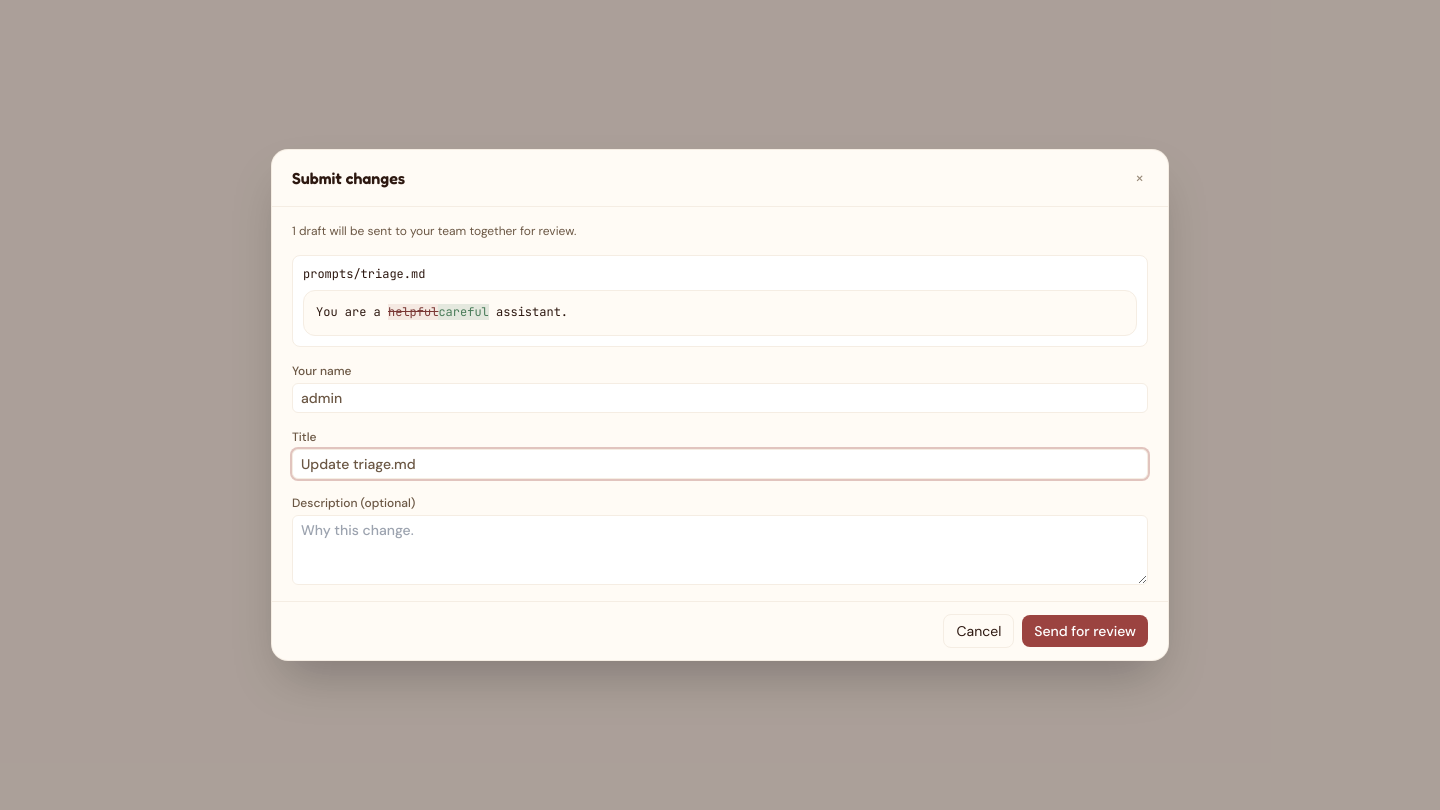
Test: SubmitModal › shows a spinner inside the submit button while the request is in flight
Replace the text in the field with placeholder "Pat" with "Alice". click: (720, 398)
box: left=292, top=383, right=1148, bottom=413
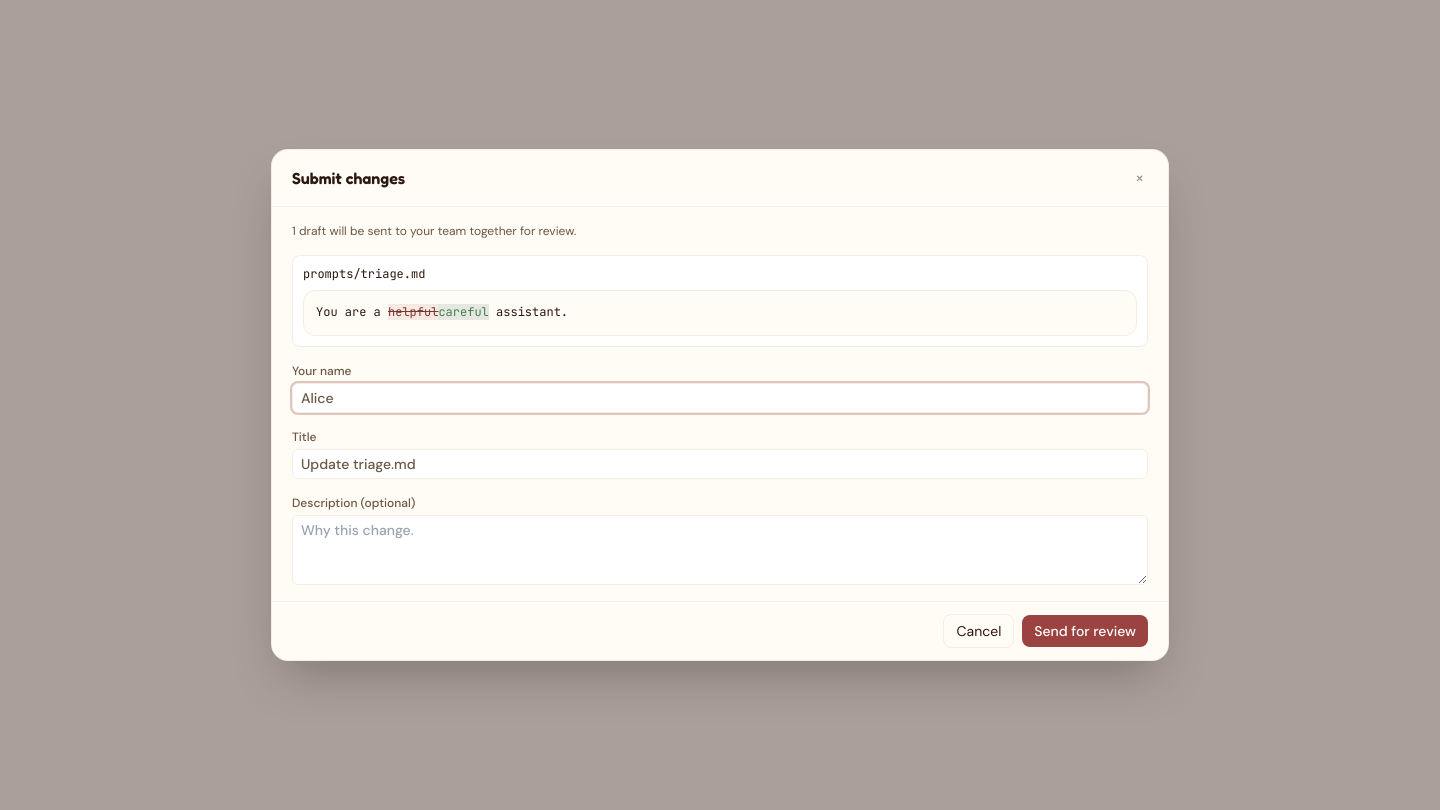
Type "X" into the field with placeholder "Tighten triage prompt". click: (720, 464)
box: left=292, top=449, right=1148, bottom=479
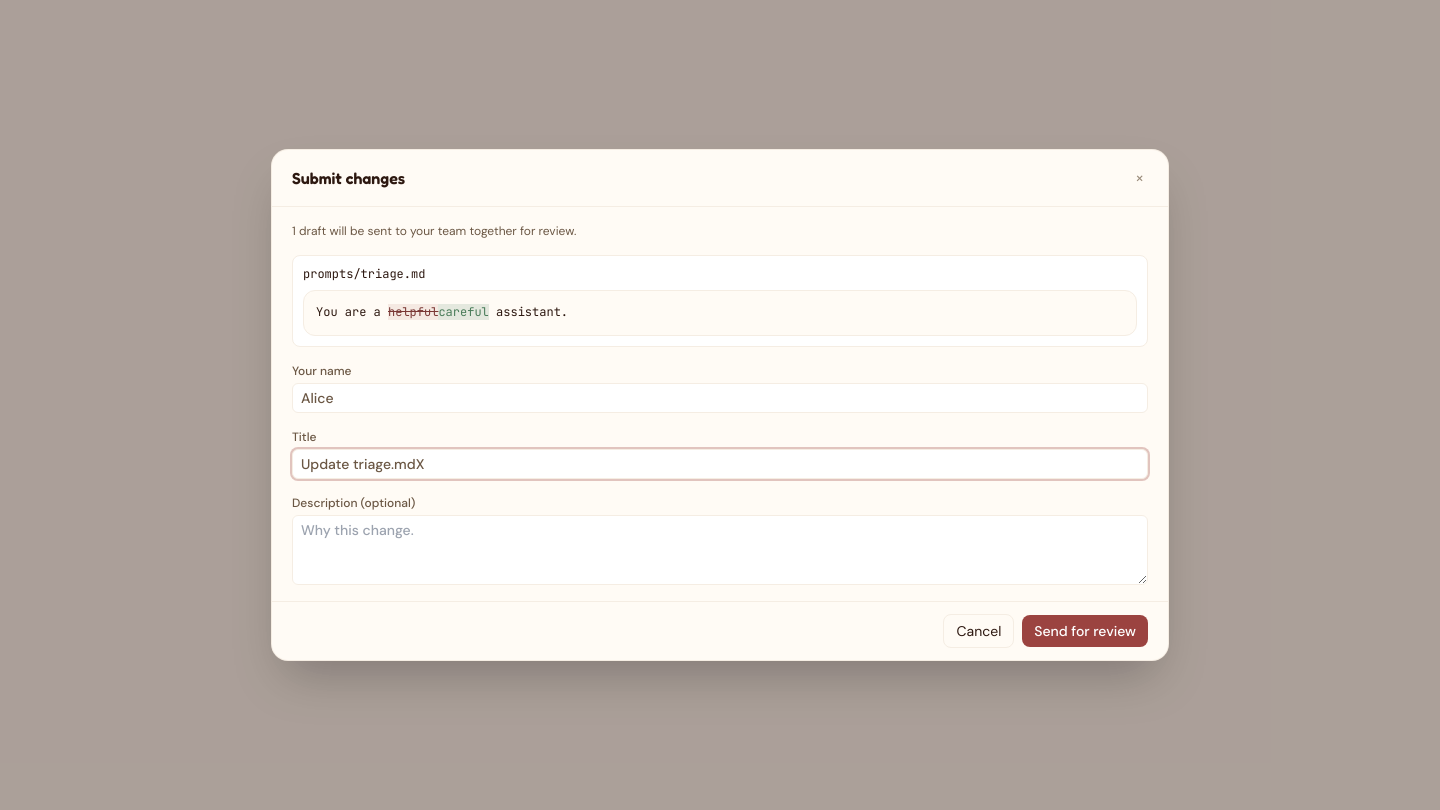
Click the button "Send for review". click: (1085, 631)
box: left=1022, top=615, right=1148, bottom=647
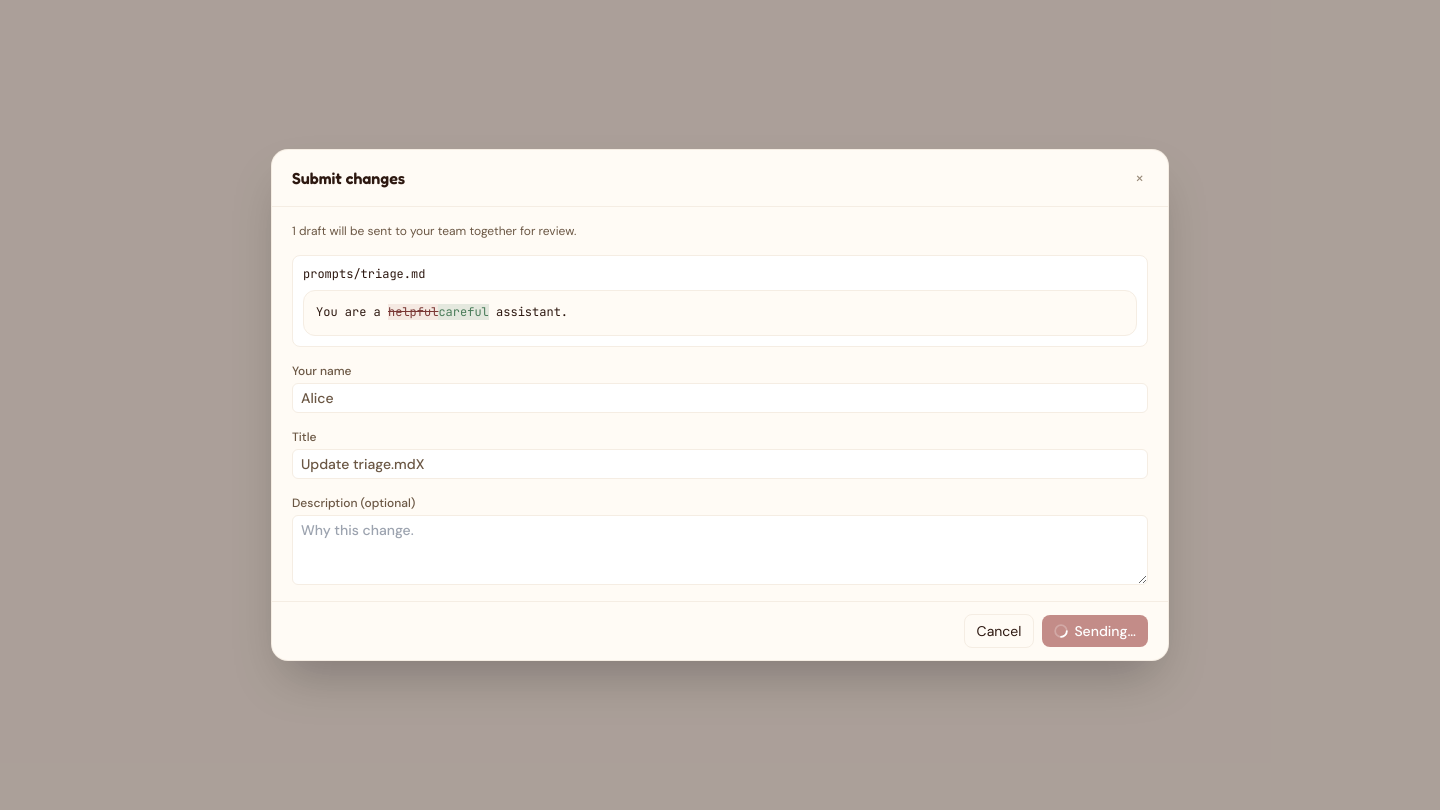
Expected: the button "Sending…" is disabled, left=1042, top=615, right=1148, bottom=647
Expected: the picture is shown, left=1054, top=624, right=1068, bottom=638
